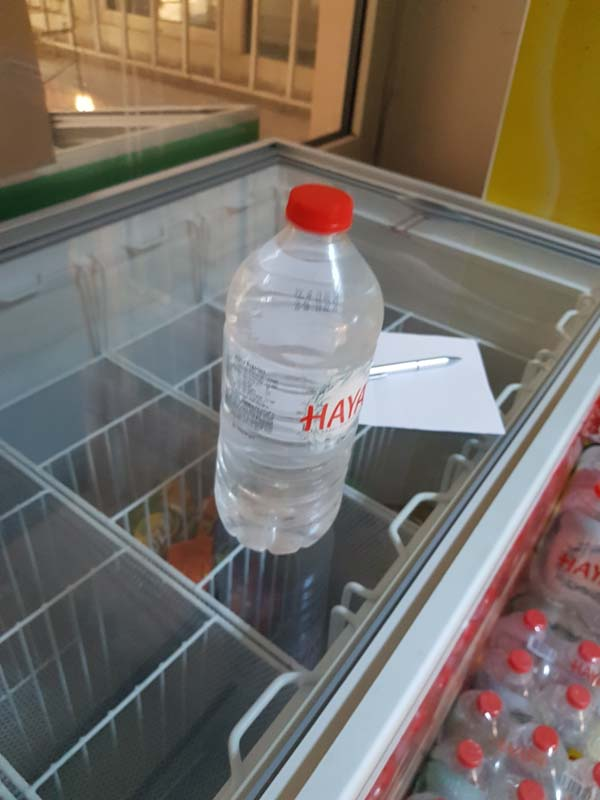saka500mlsu: (210, 179, 385, 547)
